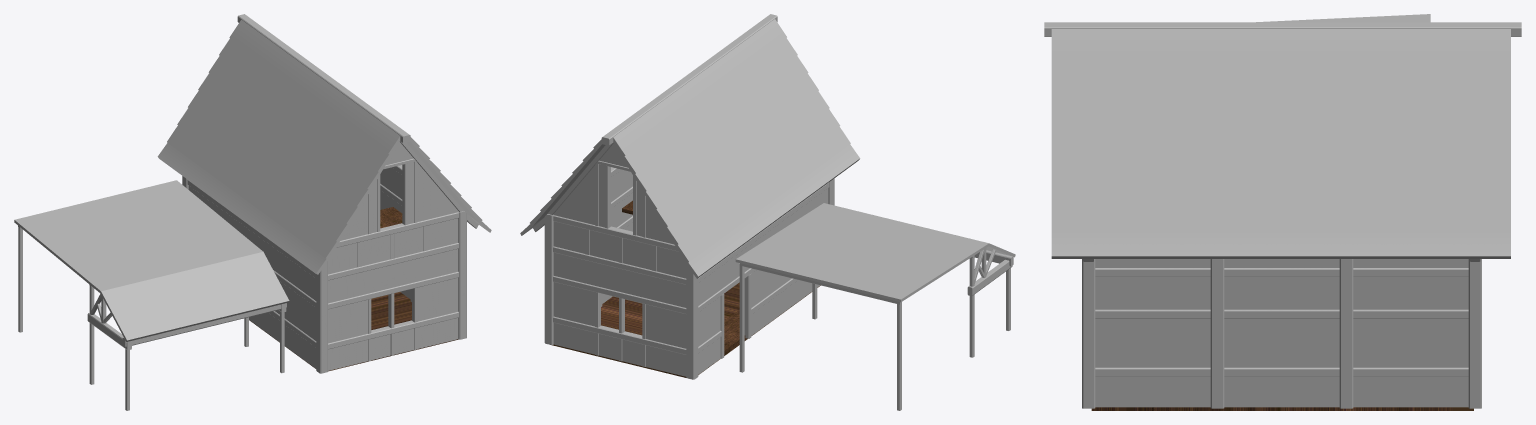
Rendered from MESH_Blacksmith_V2.fbx.
3 renders of one model, left to right at view 1: azimuth 30°, elevation 25°; view 2: azimuth 150°, elevation 25°; view 3: azimuth 270°, elevation 25°, orthographic. The views are drawn at different scales.
Parts seen in each view (by area): view 1: MESH_BlackSmith_1; view 2: MESH_BlackSmith_1; view 3: MESH_BlackSmith_1.
Part boxes in pixels (x1=…): MESH_BlackSmith_1: x1=14, y1=14, x2=491, y2=410; MESH_BlackSmith_1: x1=520, y1=14, x2=1015, y2=410; MESH_BlackSmith_1: x1=1044, y1=14, x2=1521, y2=410.
Bounding box in the file's own units: 1120 × 719 × 926.
